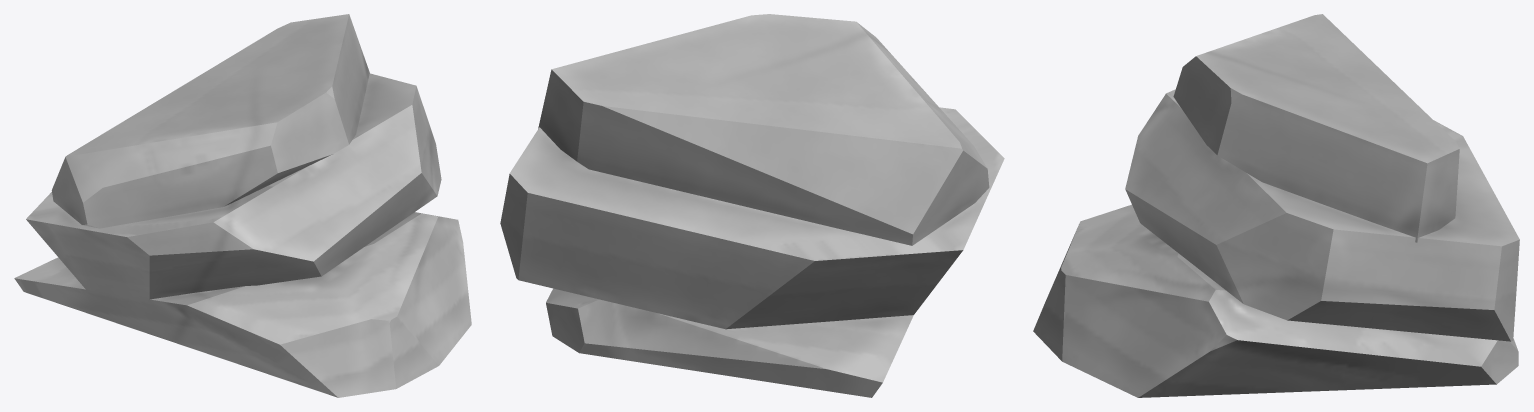
File: sculpted_stone_08.glb
The picture shows the model from 3 angles, left to right: view 1: azimuth 30°, elevation 25°; view 2: azimuth 150°, elevation 25°; view 3: azimuth 270°, elevation 25°; orthographic projection. The views are drawn at different scales.
Visible parts, largest first — view 1: sculpted_stone_08; view 2: sculpted_stone_08; view 3: sculpted_stone_08.
Part boxes in pixels (x1,y1,x2,y2): sculpted_stone_08: (14, 14, 471, 397); sculpted_stone_08: (500, 14, 1004, 397); sculpted_stone_08: (1033, 14, 1519, 397).
Bounding box in the file's own units: 0.2798 × 0.1559 × 0.2716.
1 material, 1 textured.
